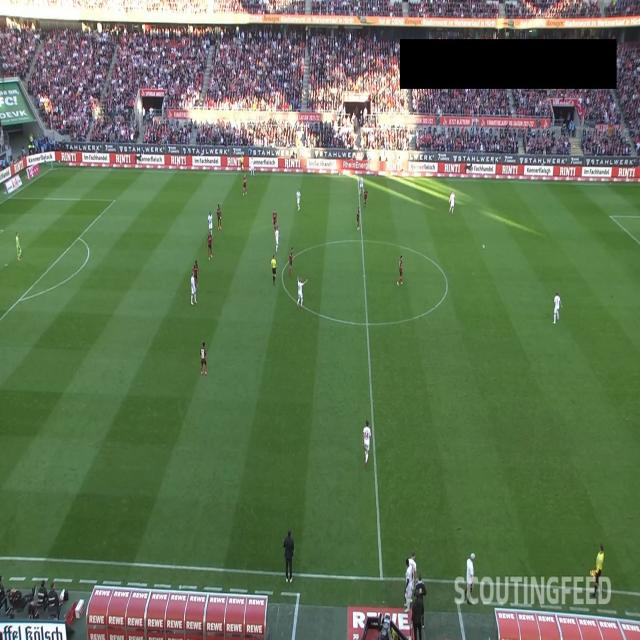ball: (482, 243, 486, 250)
